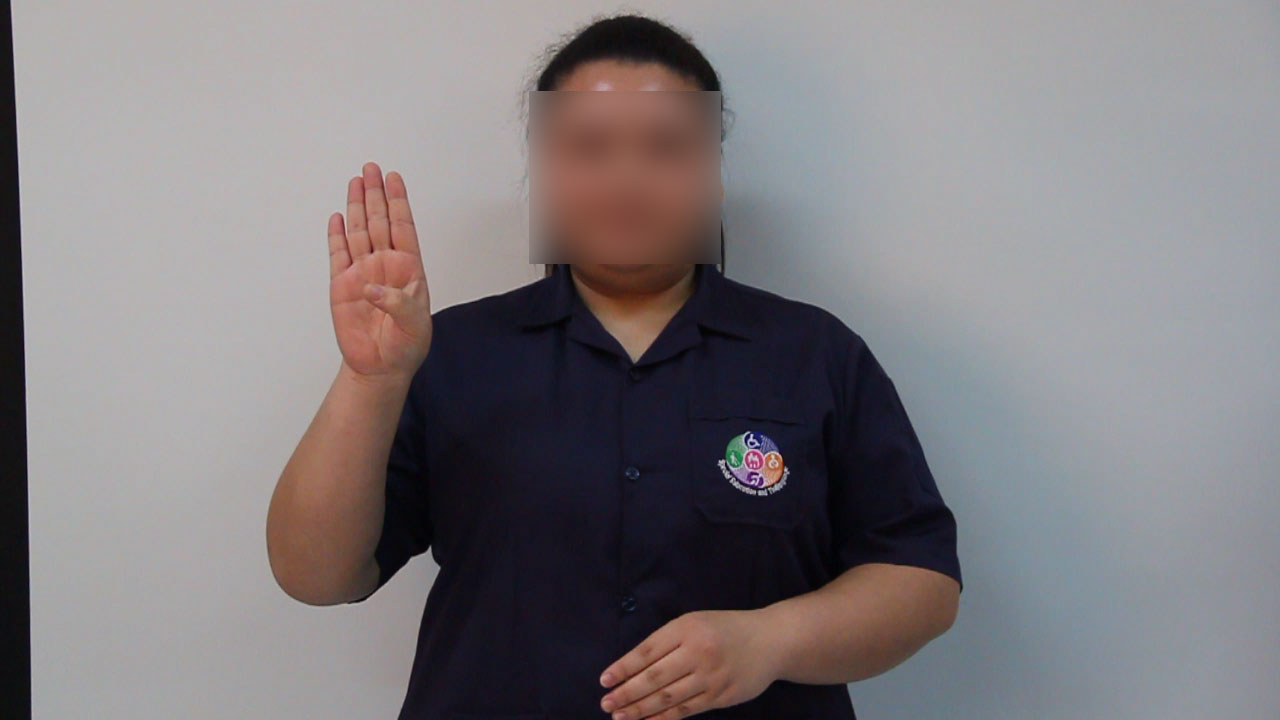bor: (307, 154, 450, 407)
